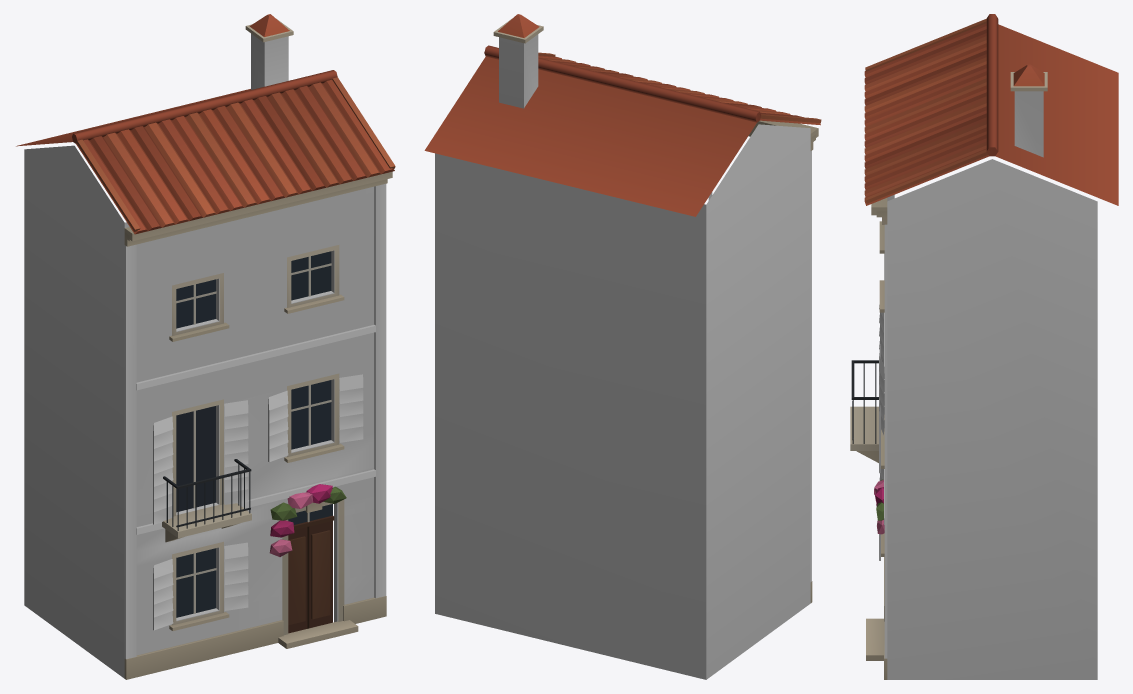
File: plaza-house-d.glb
The picture shows the model from 3 angles, left to right: view 1: azimuth 30°, elevation 25°; view 2: azimuth 150°, elevation 25°; view 3: azimuth 270°, elevation 25°; orthographic projection. The views are drawn at different scales.
Visible parts, largest first — view 1: stucco, trim, shutters; view 2: stucco, trim; view 3: stucco, trim, shutters.
Boxes of the visible parts, <box> form: stucco: <box>24,33,386,678</box>; trim: <box>16,14,395,679</box>; shutters: <box>153,374,363,630</box>; stucco: <box>435,34,811,679</box>; trim: <box>424,14,821,602</box>; stucco: <box>884,91,1097,679</box>; trim: <box>850,14,1118,679</box>; shutters: <box>879,305,884,560</box>.
Size of the model in its own units: 6 by 12.38 by 5.1.
